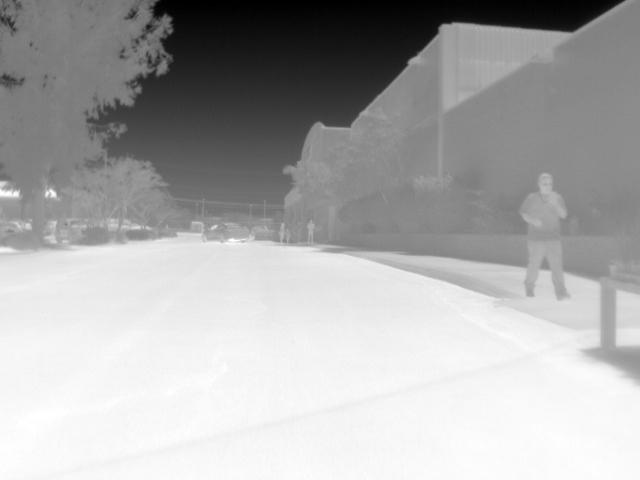car: (200, 220, 251, 243), (54, 216, 88, 244), (189, 220, 205, 234)
person: (517, 171, 573, 300), (304, 218, 317, 246), (274, 220, 288, 246)
